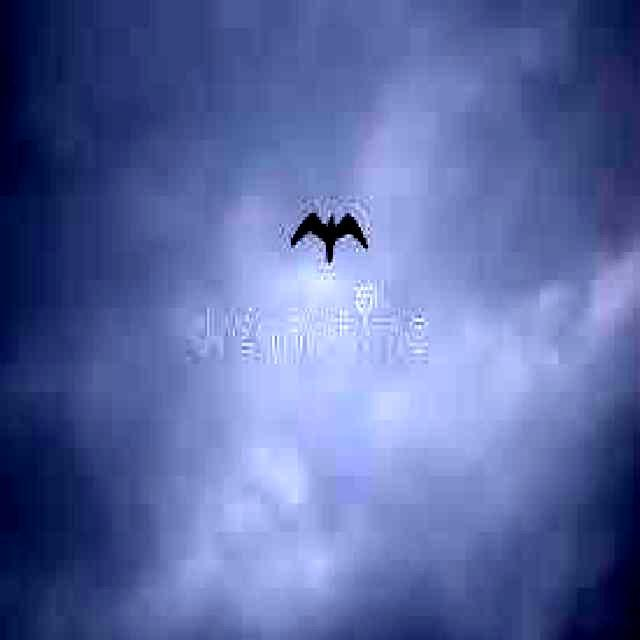bird: (286, 198, 373, 278)
